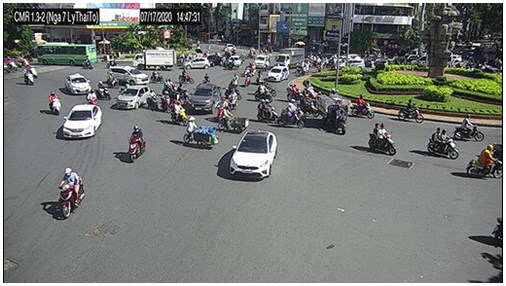xe_ba_gac: (318, 96, 347, 136)
xe_buyt: (34, 42, 97, 66)
xe_hang_rong: (183, 115, 217, 150), (217, 109, 250, 134)
xe_hoi: (229, 130, 278, 179), (63, 104, 102, 139), (116, 85, 149, 110), (109, 66, 149, 85), (266, 65, 289, 82), (182, 57, 211, 70), (335, 59, 365, 71), (251, 54, 269, 68)
xe_may: (57, 165, 85, 219), (466, 144, 503, 178), (366, 123, 397, 156), (427, 128, 458, 160), (453, 114, 484, 142), (128, 125, 146, 164), (398, 98, 424, 124), (279, 104, 305, 130), (350, 94, 374, 119), (170, 101, 191, 127), (258, 99, 279, 123), (300, 94, 319, 119), (285, 82, 305, 104), (253, 83, 272, 103), (47, 89, 62, 114), (95, 80, 112, 101), (146, 88, 158, 112), (228, 88, 239, 112), (294, 60, 310, 76), (149, 68, 164, 85), (177, 68, 192, 85), (303, 81, 318, 98), (216, 97, 227, 120), (87, 90, 99, 108), (23, 68, 34, 85), (229, 73, 239, 90), (81, 56, 93, 70), (201, 71, 211, 84), (106, 57, 117, 68), (244, 71, 251, 88)
xe_tai: (132, 49, 178, 71), (274, 47, 305, 66)
